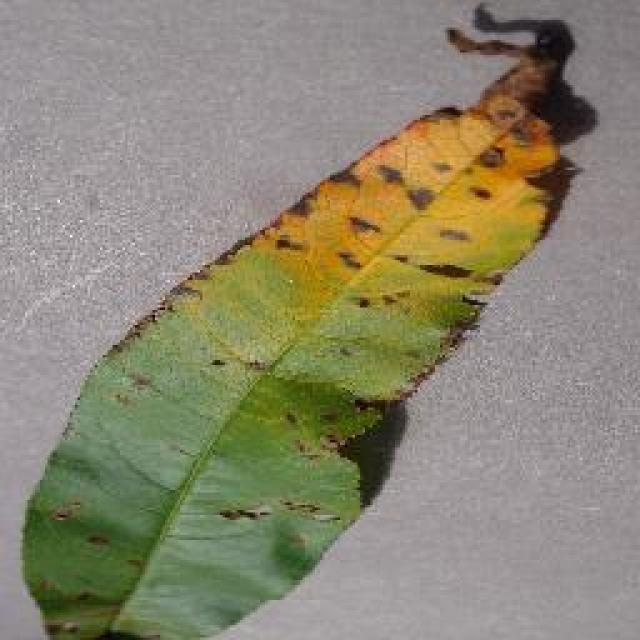Peach_Bacterial_Spot: (245, 101, 572, 372)
